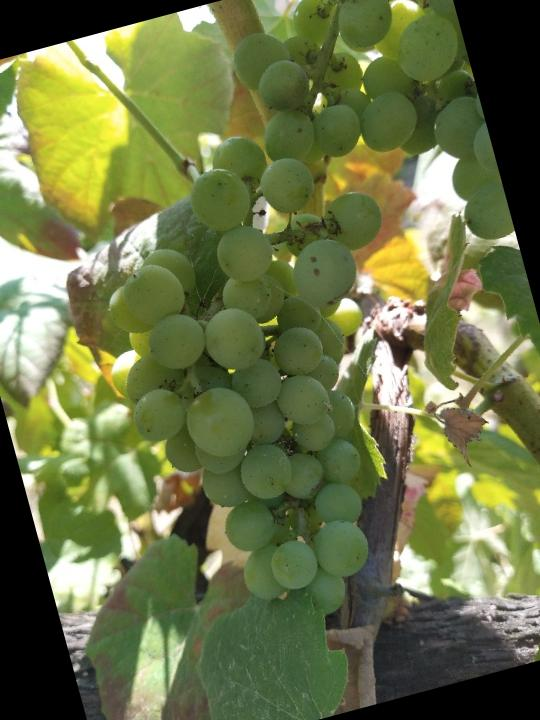grape: (31, 102, 480, 664)
